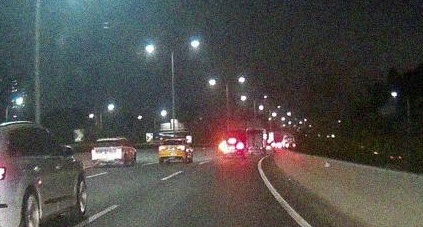L_light: (92, 150, 97, 154), (159, 147, 165, 150), (222, 146, 227, 149)
R_light: (177, 146, 185, 150), (116, 148, 121, 153), (237, 145, 243, 148)
T_light: (229, 140, 235, 143), (106, 140, 112, 142), (171, 140, 175, 141)
night-left: (222, 140, 244, 158)
night-no: (91, 138, 122, 167), (158, 139, 185, 163)
